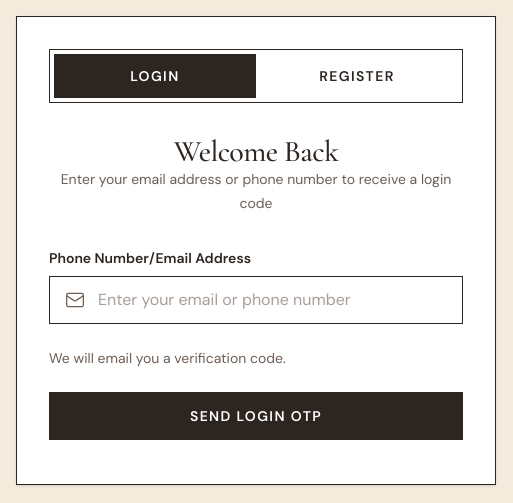
Test: CustomerLoginForm › keeps email OTP requests on the existing Brevo action path
In the field with placeholder "Enter your email or phone number": (256, 300) x1=49 y1=276 x2=463 y2=324, type "customer@example.com"
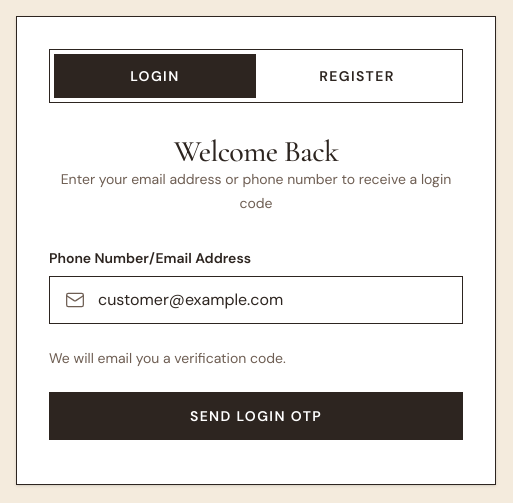
Click the button "SEND LOGIN OTP": click(256, 416) x1=49 y1=392 x2=463 y2=440
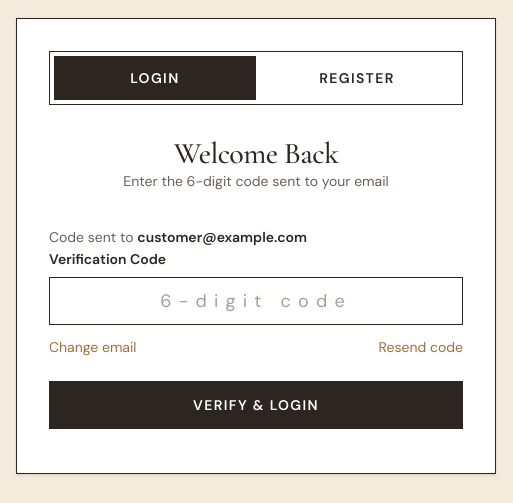
Check: the text "Enter the 6-digit code sent to your email" is shown, box x1=123 y1=172 x2=389 y2=190
